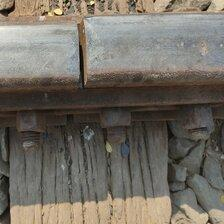railway-gap: (29, 10, 131, 101)
